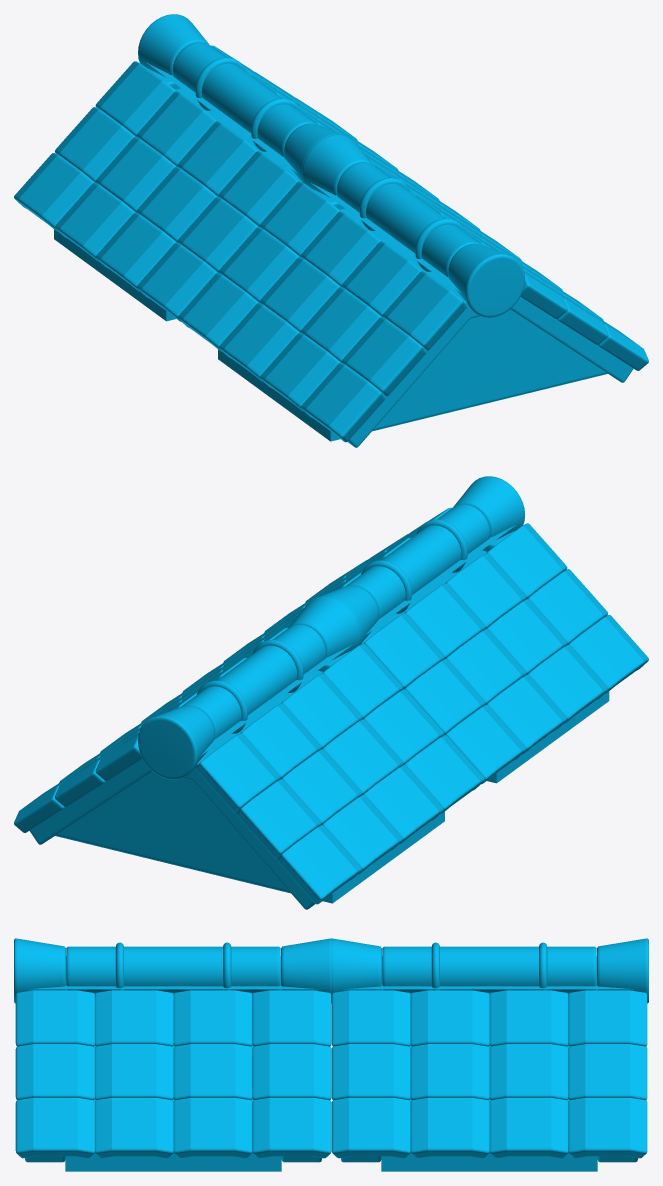
The model's file is SM_Wood_Roof_03.fbx.
The picture shows the model from 3 angles, top to bottom: view 1: azimuth 30°, elevation 25°; view 2: azimuth 150°, elevation 25°; view 3: azimuth 270°, elevation 25°; orthographic projection. The views are drawn at different scales.
Visible parts, largest first — view 1: SM_Wood_Roof_03; view 2: SM_Wood_Roof_03; view 3: SM_Wood_Roof_03.
Boxes of the visible parts, <box> form: SM_Wood_Roof_03: <box>14,14,648,447</box>; SM_Wood_Roof_03: <box>14,476,648,909</box>; SM_Wood_Roof_03: <box>14,938,648,1171</box>.
Bounding box in the file's own units: 2.75 × 1.42 × 4.98.
